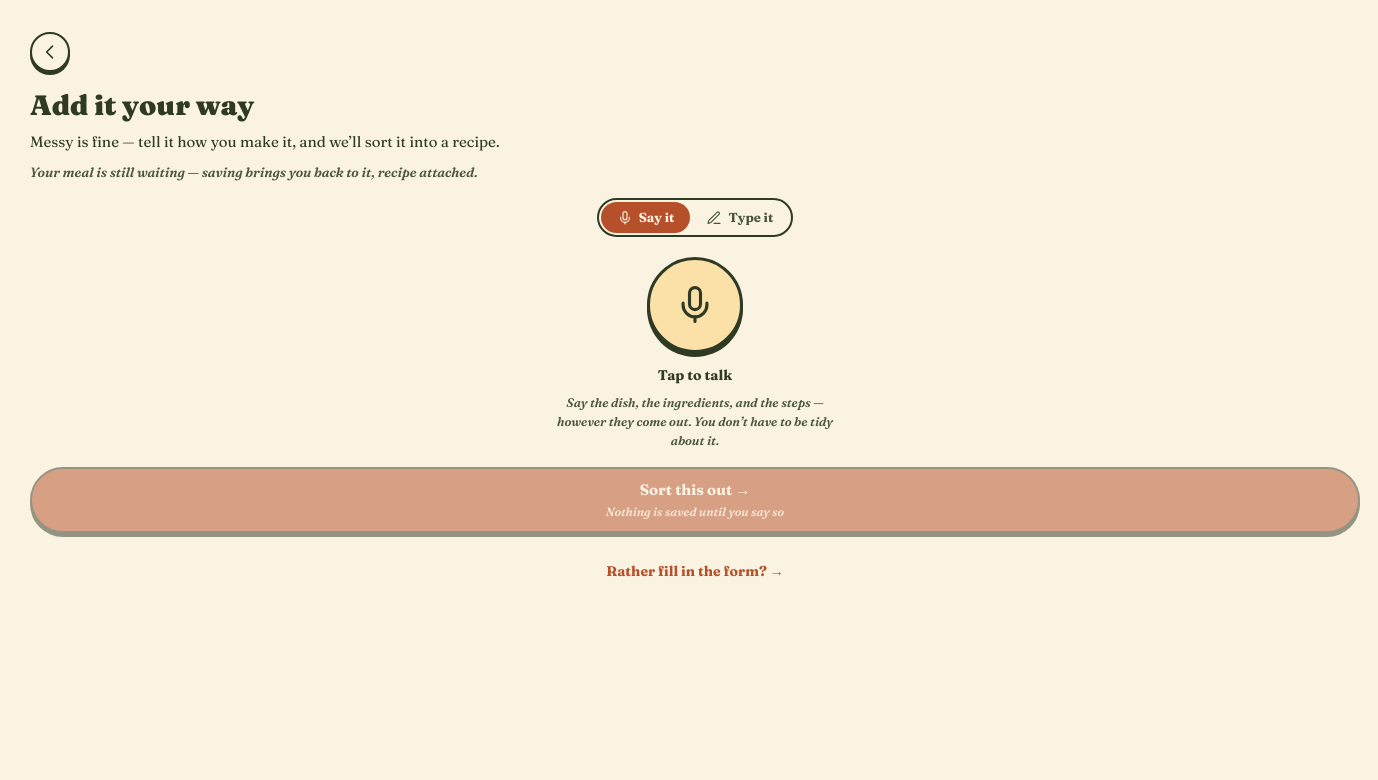
it: PlantRecipe — entered from the meal composer › backing out returns to the composer with the draft, not to the add chooser
The image size is (1378, 780).
Click the button named "back" at (50, 52), box [30,32,70,72]
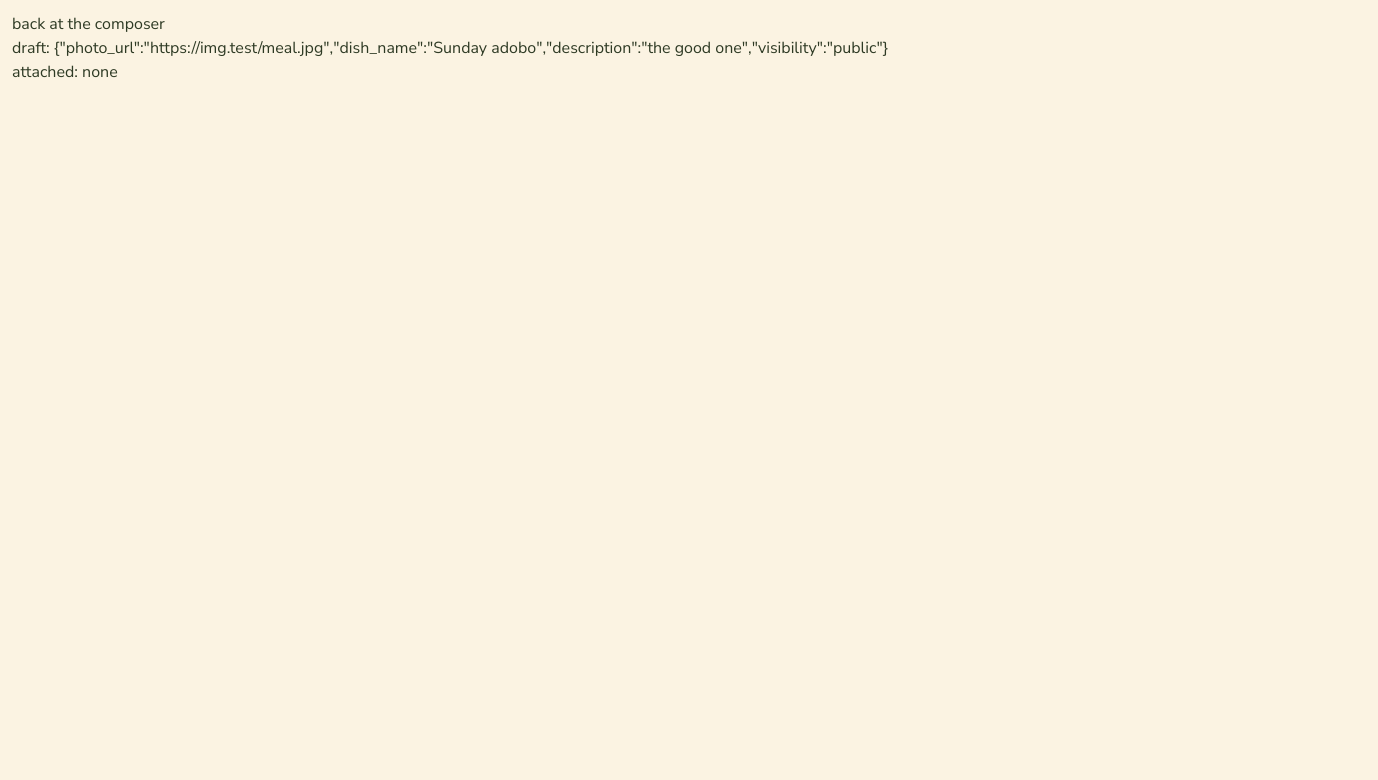
Result: the text "back at the composer" is shown at [12,13,165,35]
Result: the text "attached: none" is shown at [12,61,118,83]
